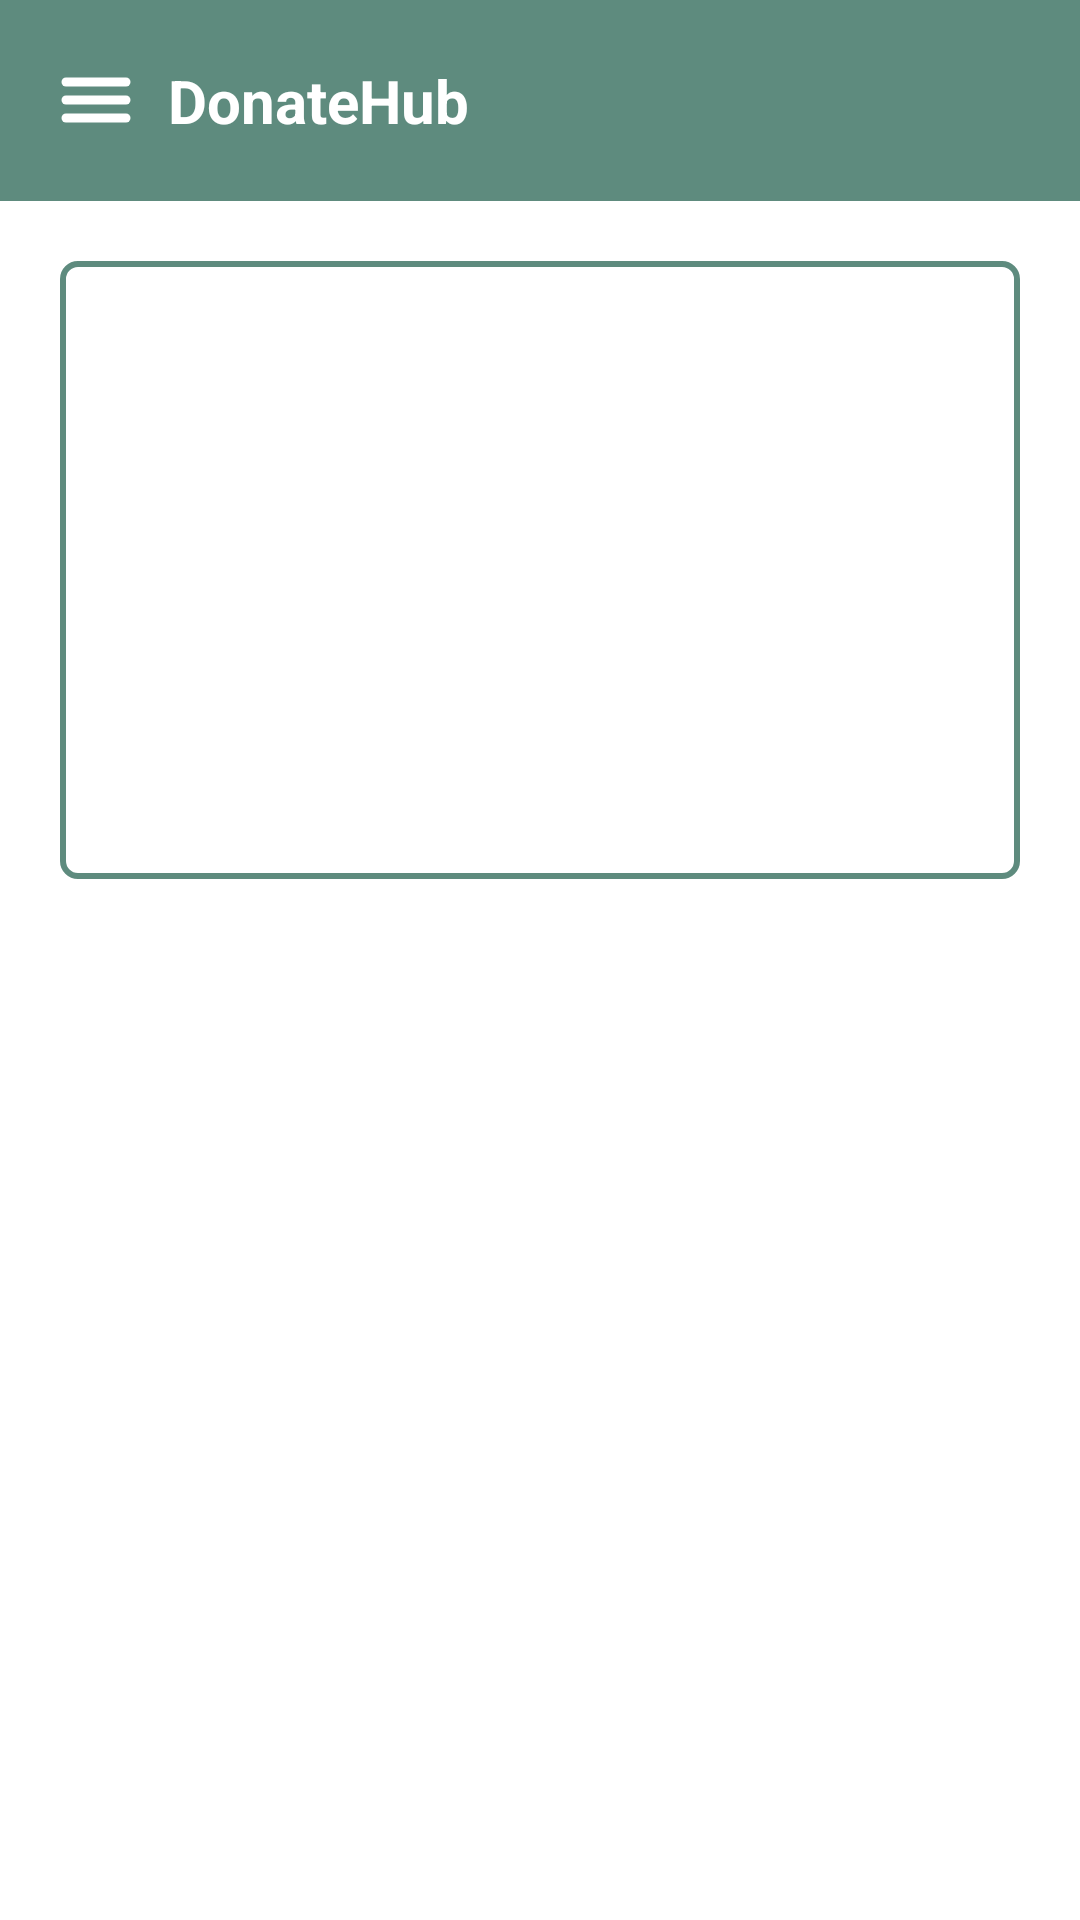

Icons on this 1080×1920 Android screen, each with the point to tap as (x,y):
menu: (96,100)
